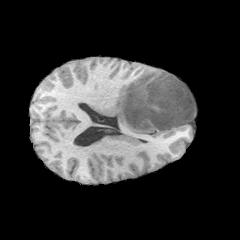glioma: (88, 72, 181, 136)
